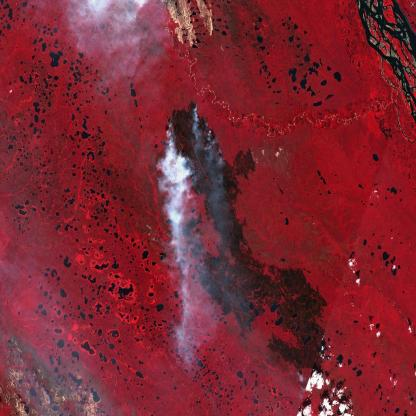fire: (165, 95, 223, 169)
